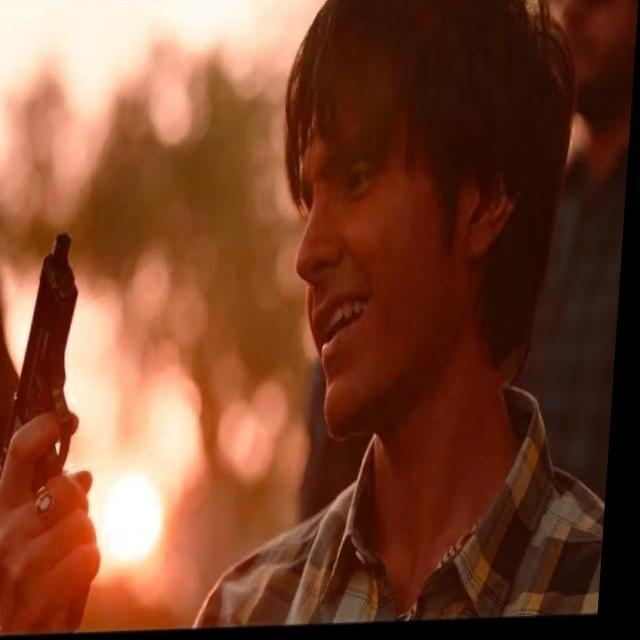weapon: (0, 225, 123, 632)
